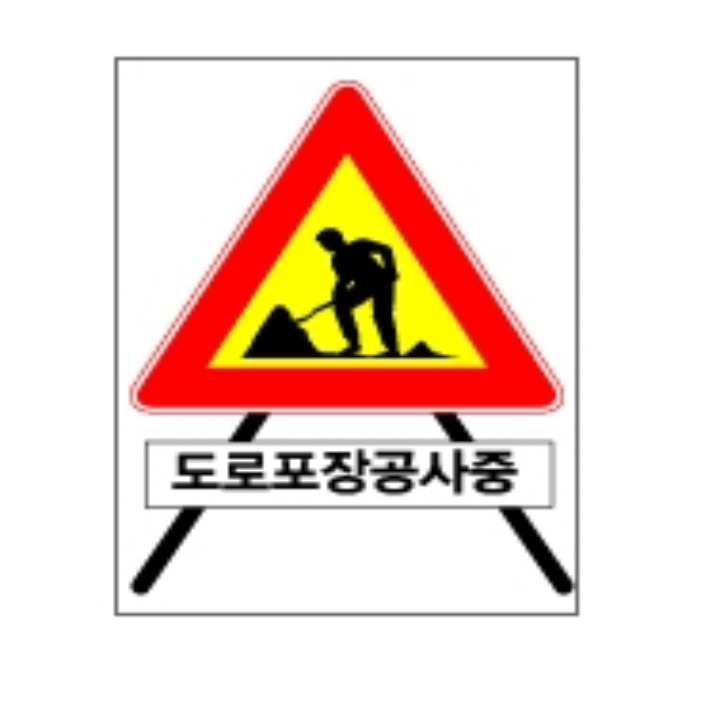const: (241, 213, 444, 364)
